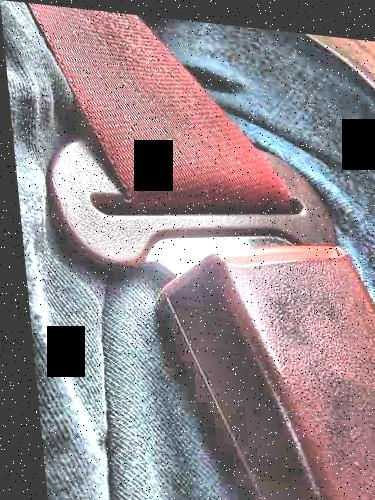seatbelt: (15, 9, 375, 454)
